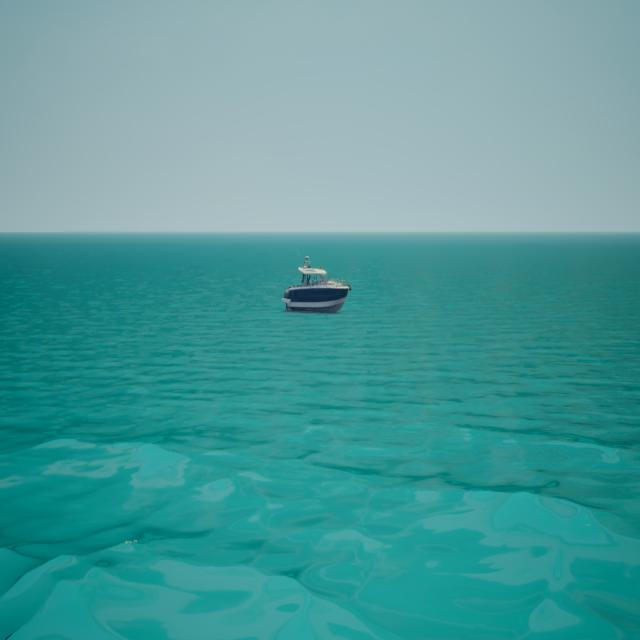ship: (282, 256, 349, 314)
